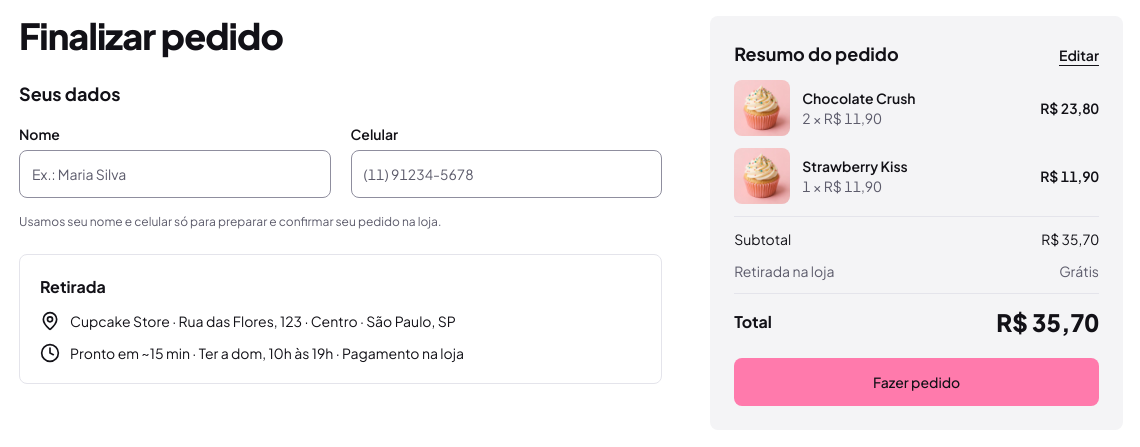
Test: US-12 validation messages › shows both messages on submit, focuses the first invalid field and creates nothing
Expected: the heading "Resumo do pedido" is shown, [734,40,899,68]
Click the button "Fazer pedido" at (917,382), box [734,358,1099,406]
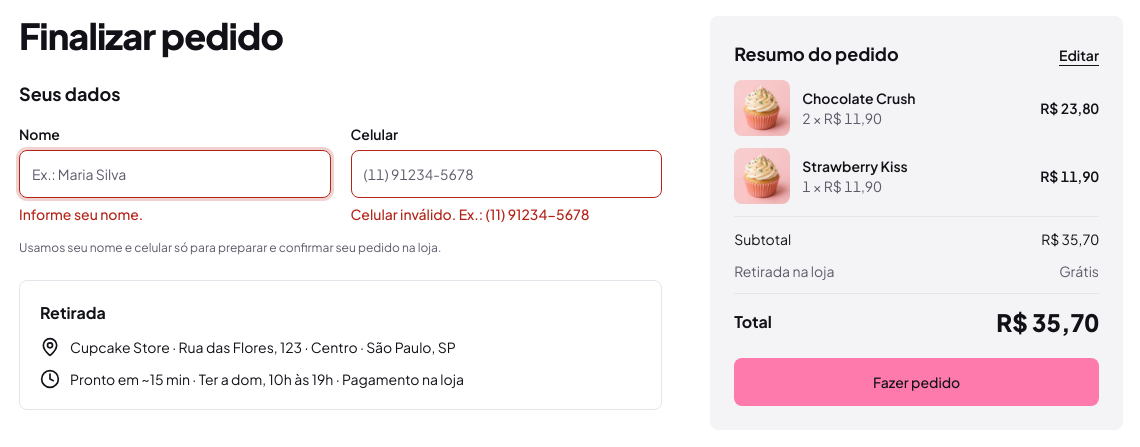
Result: the text "Informe seu nome." is shown at [19,205,143,223]
Result: the text "Celular inválido. Ex.: (11) 91234-5678" is shown at [351,205,590,223]
